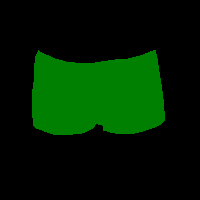mutande: (32, 49, 165, 135)
